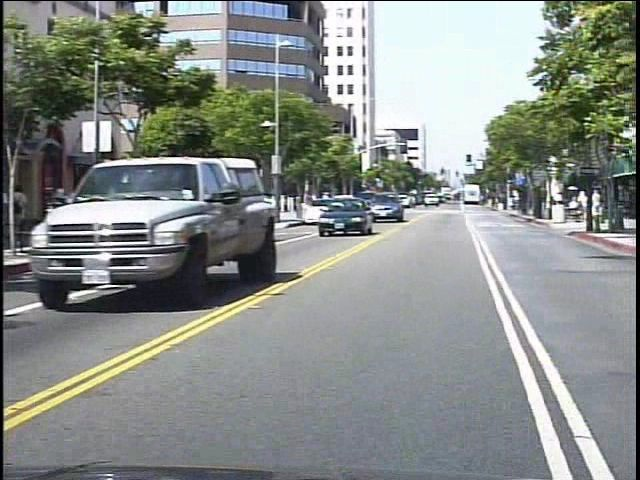person: (24, 182, 46, 247)
